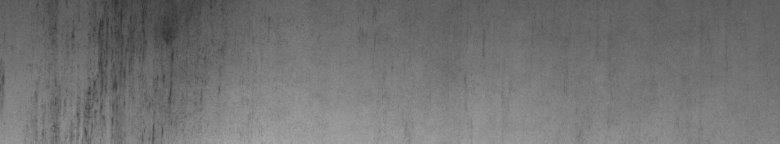ka: (52, 4, 178, 136)
